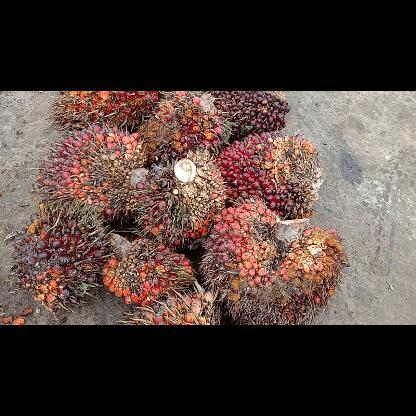TBS masak: (198, 200, 346, 324), (36, 126, 146, 224), (9, 213, 113, 313), (214, 132, 322, 224), (132, 154, 228, 248), (103, 233, 197, 301), (141, 91, 223, 164), (52, 91, 164, 131), (211, 91, 289, 143), (118, 288, 222, 324)
